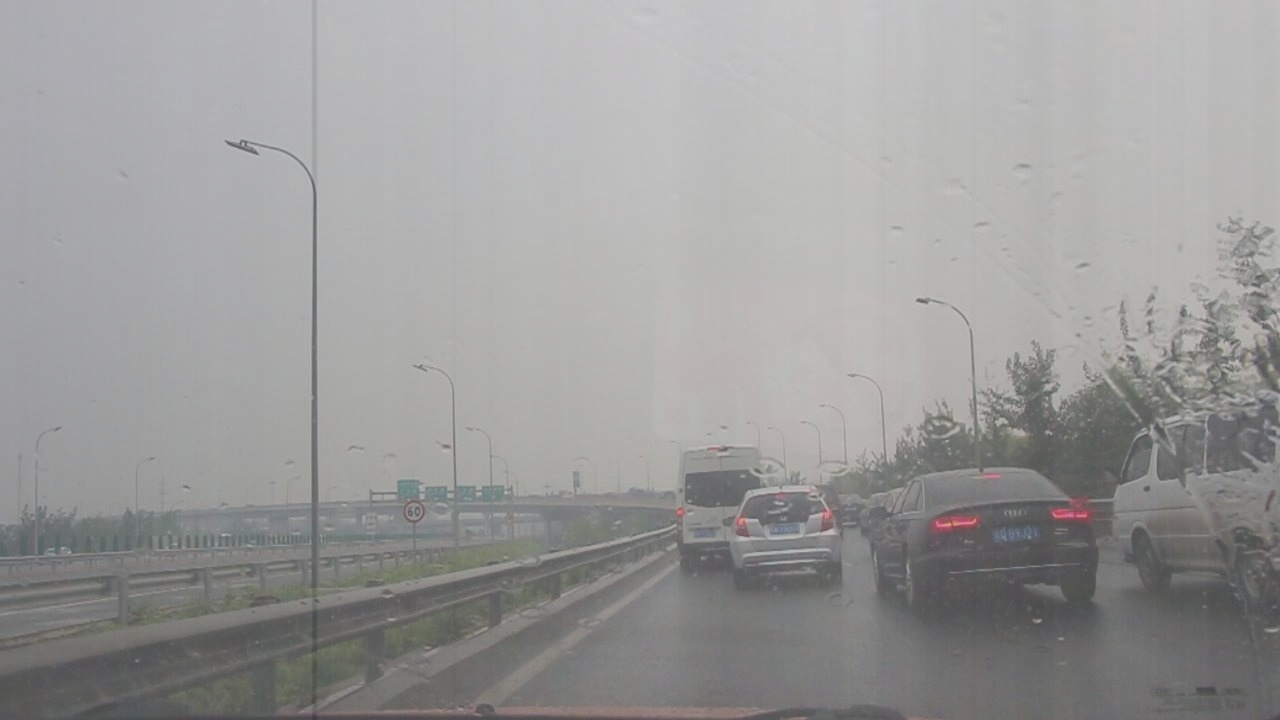Prohibitory Signs: (402, 498, 427, 524)
